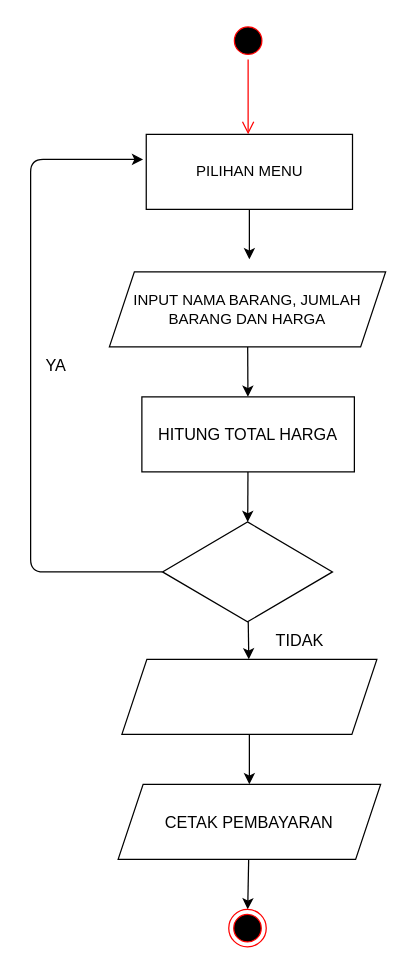
Some shapes in this 408 by 969 pixel diagram are drawn without their labels. Each missing label, with the box of its shape:
MASUKKAN PEMBAYARAN: (121, 658, 377, 734)
TAMBAH BARANG: (161, 521, 332, 622)
